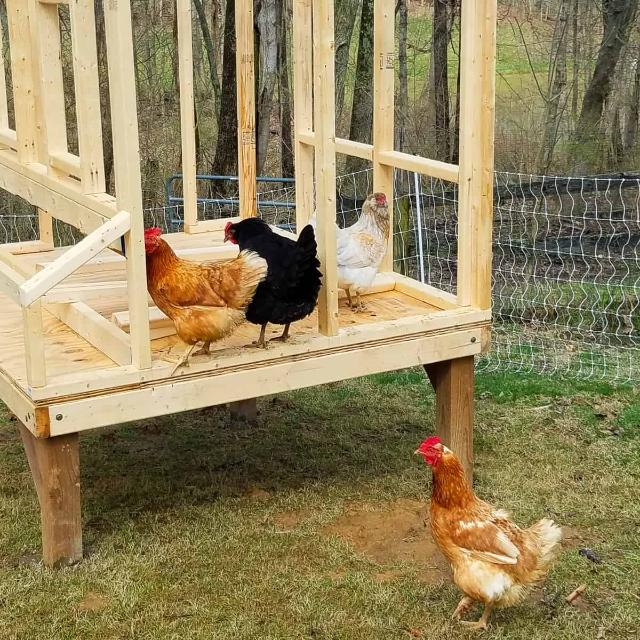Chicken: (416, 435, 563, 629), (143, 231, 268, 365), (223, 215, 322, 348), (309, 193, 391, 310)
